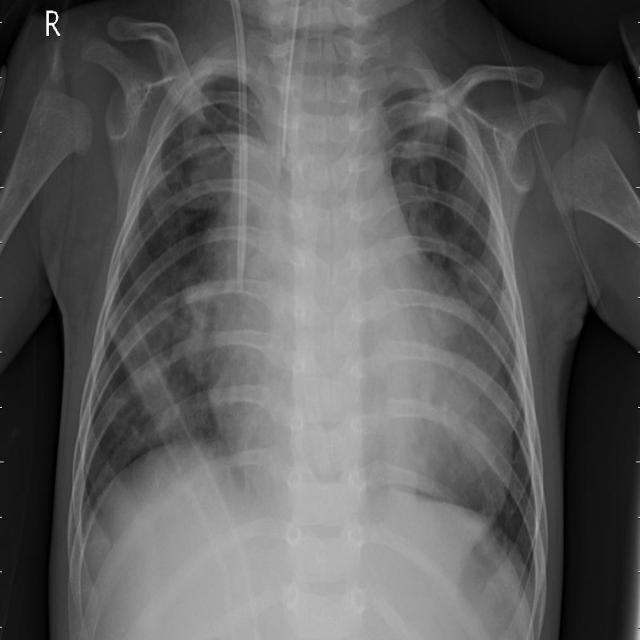low-pneumonia: (173, 235, 230, 439), (172, 109, 249, 212)
